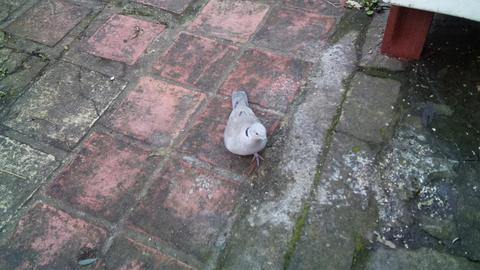collared dove: (223, 91, 269, 167)
